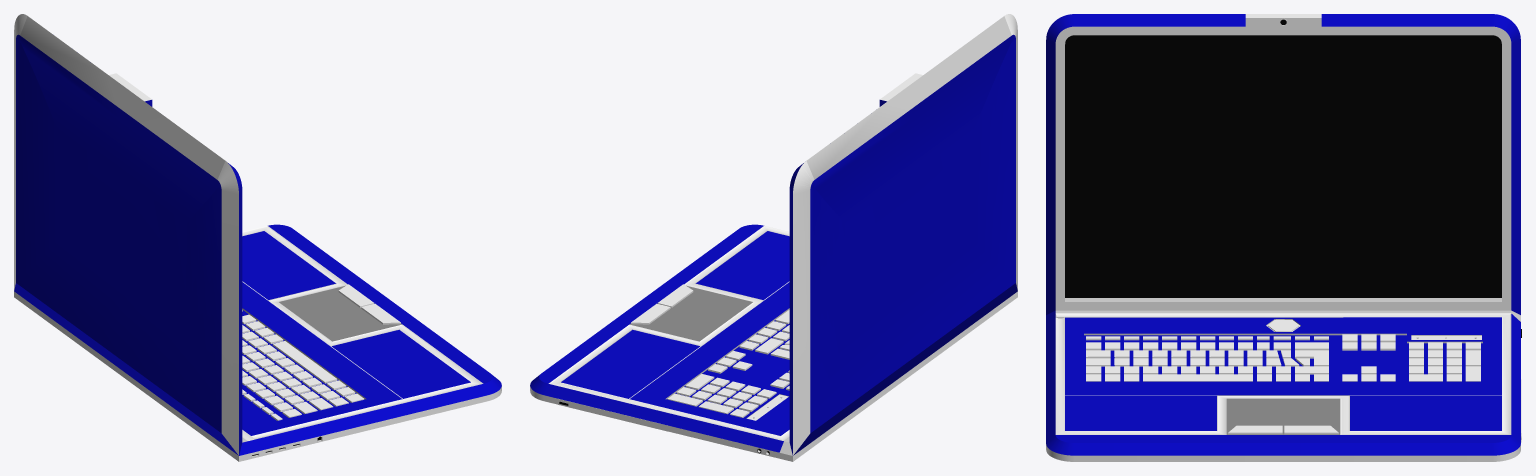
3 views of the same model, side by side, from view 1: azimuth 30°, elevation 25°; view 2: azimuth 150°, elevation 25°; view 3: azimuth 270°, elevation 25° (orthographic). The views are drawn at different scales.
Parts seen in each view (by area): view 1: mesh1-geometry-2, mesh1-geometry-1, mesh1-geometry-0, mesh1-geometry-4; view 2: mesh1-geometry-2, mesh1-geometry-1, mesh1-geometry-0, mesh1-geometry-4; view 3: mesh1-geometry-3, mesh1-geometry-2, mesh1-geometry-1, mesh1-geometry-0, mesh1-geometry-4.
Boxes of the visible parts, <box> form: mesh1-geometry-2: <box>14,34,501,455</box>; mesh1-geometry-1: <box>14,14,501,461</box>; mesh1-geometry-0: <box>20,16,398,457</box>; mesh1-geometry-4: <box>279,285,402,341</box>; mesh1-geometry-2: <box>530,34,1017,455</box>; mesh1-geometry-1: <box>530,14,1017,461</box>; mesh1-geometry-0: <box>558,16,1011,455</box>; mesh1-geometry-4: <box>629,285,752,341</box>; mesh1-geometry-3: <box>1065,19,1521,337</box>; mesh1-geometry-2: <box>1046,14,1520,455</box>; mesh1-geometry-1: <box>1046,14,1520,461</box>; mesh1-geometry-0: <box>1055,298,1521,442</box>; mesh1-geometry-4: <box>1226,398,1340,434</box>.
Size of the model in its own units: 0.5012 by 0.5121 by 0.6975.
